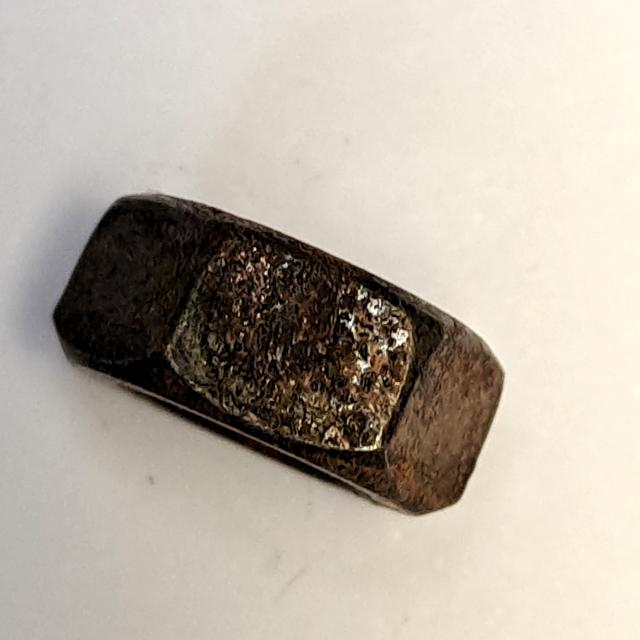Side_Rust: (32, 171, 527, 531)
